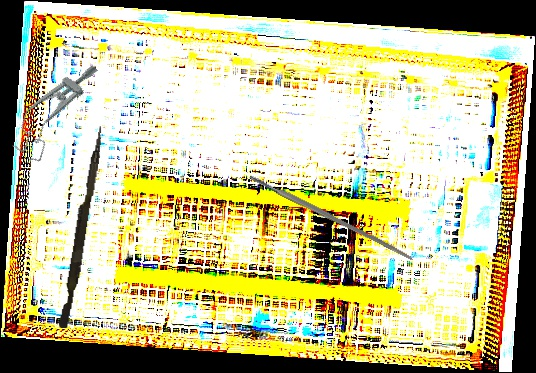Pusher: (58, 124, 105, 330)
Scalpel Handle: (247, 171, 415, 263)
Speculum: (3, 50, 106, 166)
